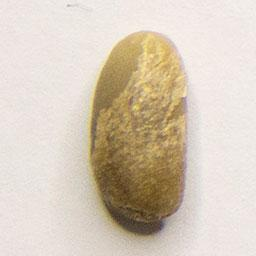longberry: (86, 26, 193, 227)
